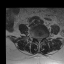CCS_normal: (38, 37, 40, 44)
LFS_severe_stenosis: (42, 36, 44, 41)
LLS_stenosis: (40, 37, 42, 42)
RFS_severe_stenosis: (35, 36, 37, 40)
RLS_stenosis: (36, 37, 38, 42)
